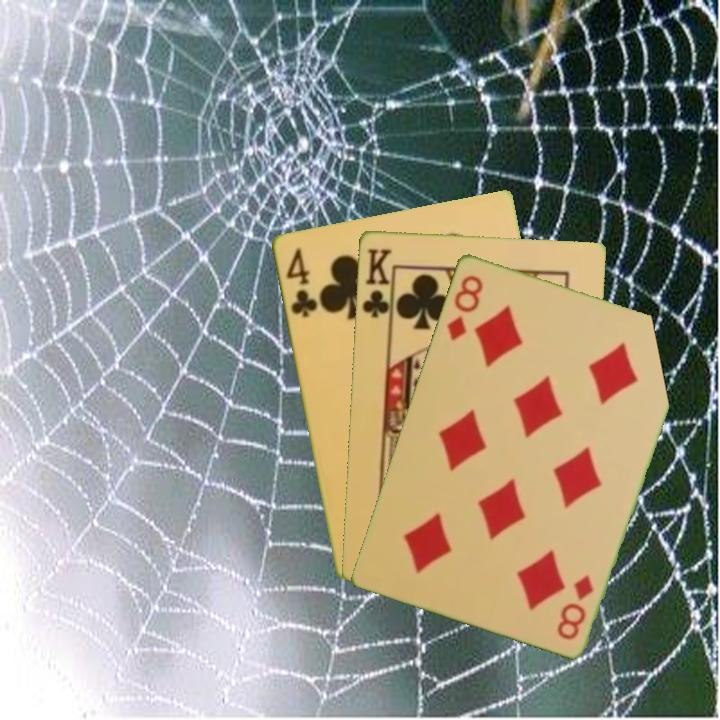4c: (282, 243, 320, 320)
8d: (443, 271, 486, 343), (553, 570, 596, 642)
Kc: (358, 244, 395, 325)
